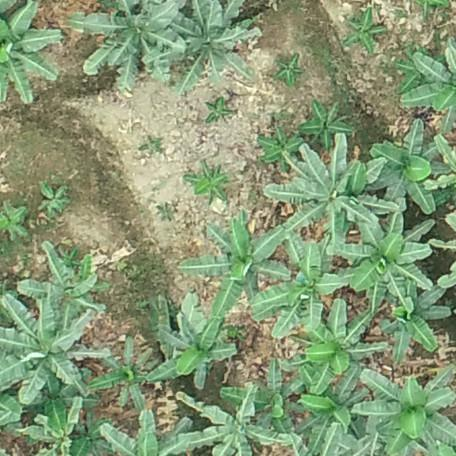Banana-plant: (262, 141, 395, 234), (0, 291, 108, 391), (177, 215, 288, 309), (73, 0, 179, 93), (251, 238, 340, 326), (366, 371, 456, 456), (340, 211, 427, 296), (294, 306, 382, 389), (160, 0, 256, 76), (174, 392, 281, 456), (20, 242, 109, 318), (296, 365, 370, 456), (370, 119, 441, 208), (0, 3, 59, 107), (155, 301, 229, 383), (400, 43, 456, 133), (225, 363, 299, 425), (385, 283, 449, 351), (28, 397, 100, 456), (88, 339, 153, 404), (301, 95, 352, 146), (176, 162, 238, 199), (256, 123, 300, 167), (396, 48, 439, 88), (36, 178, 80, 216), (340, 10, 381, 48), (268, 51, 310, 83), (0, 201, 28, 241), (205, 100, 236, 125), (153, 195, 180, 221), (139, 133, 166, 157)
